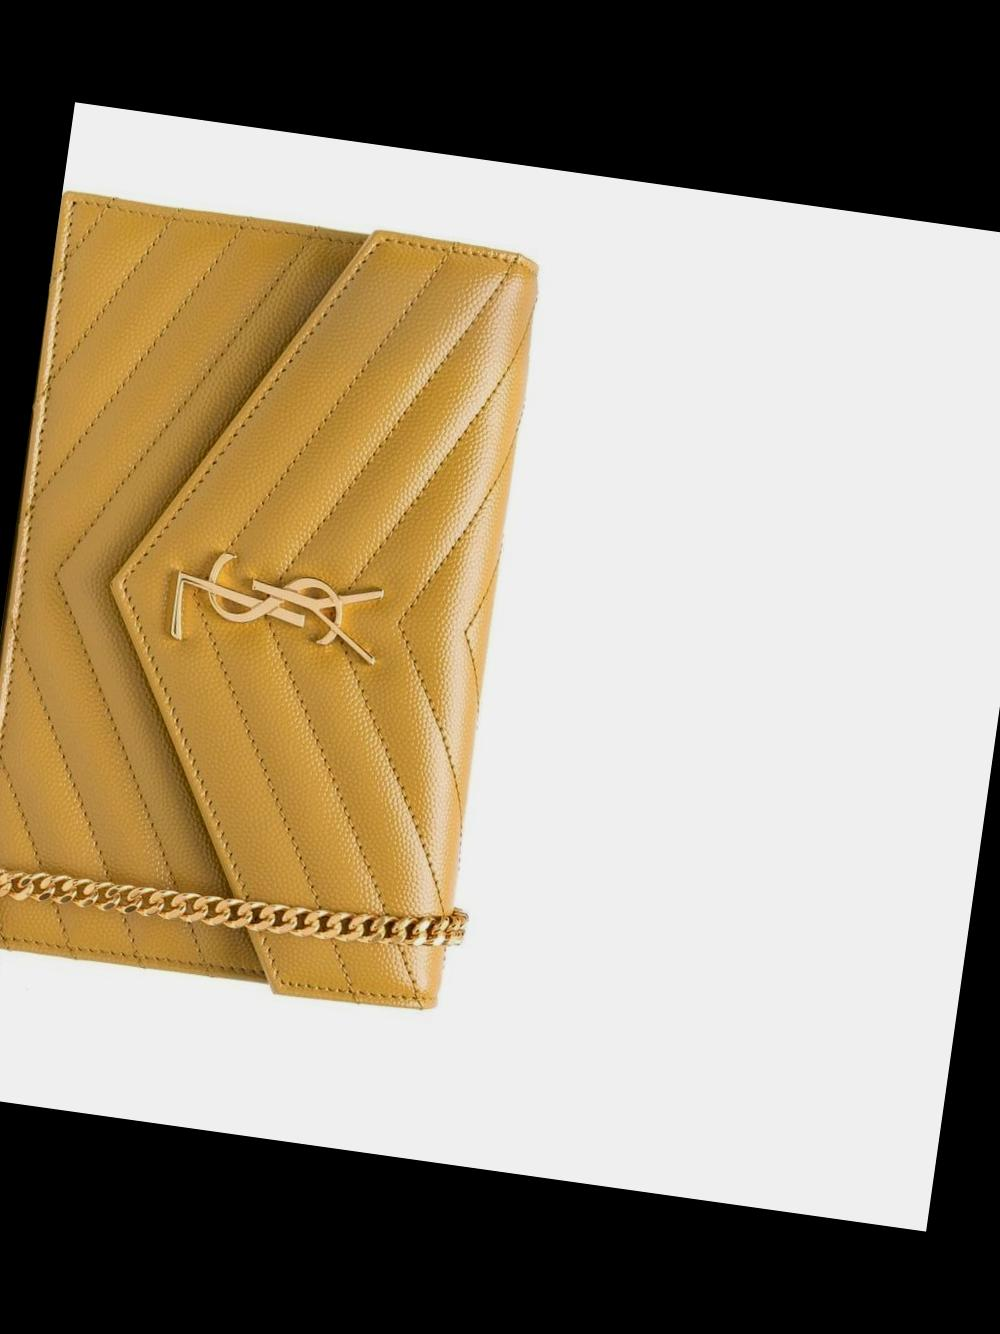YVES-SAINT-LAURENT: (167, 547, 386, 668)
